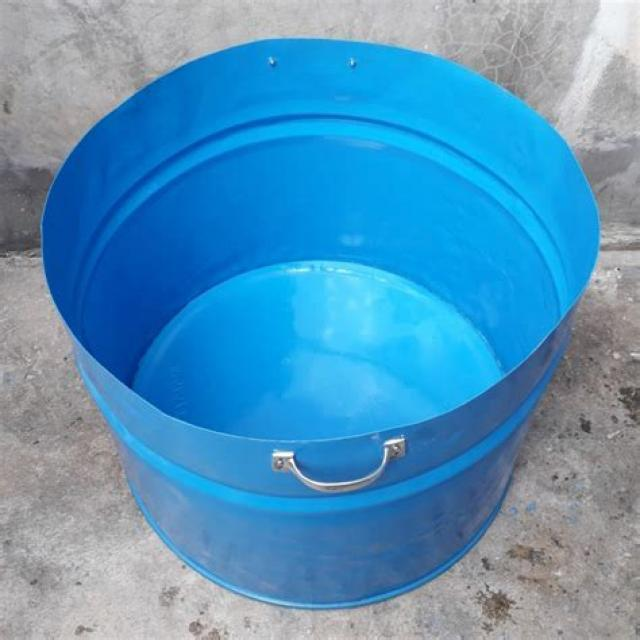garbage container: (35, 18, 632, 622)
